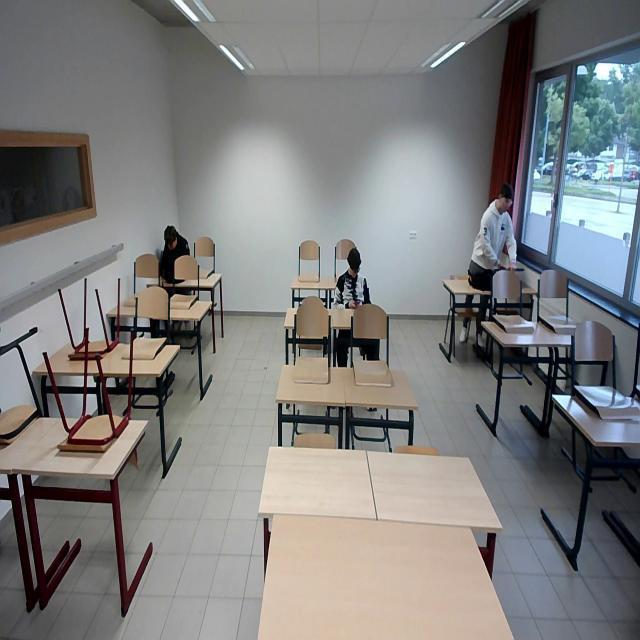Looking away: (497, 185, 512, 214)
Phone use: (332, 242, 373, 316), (157, 223, 191, 275)
